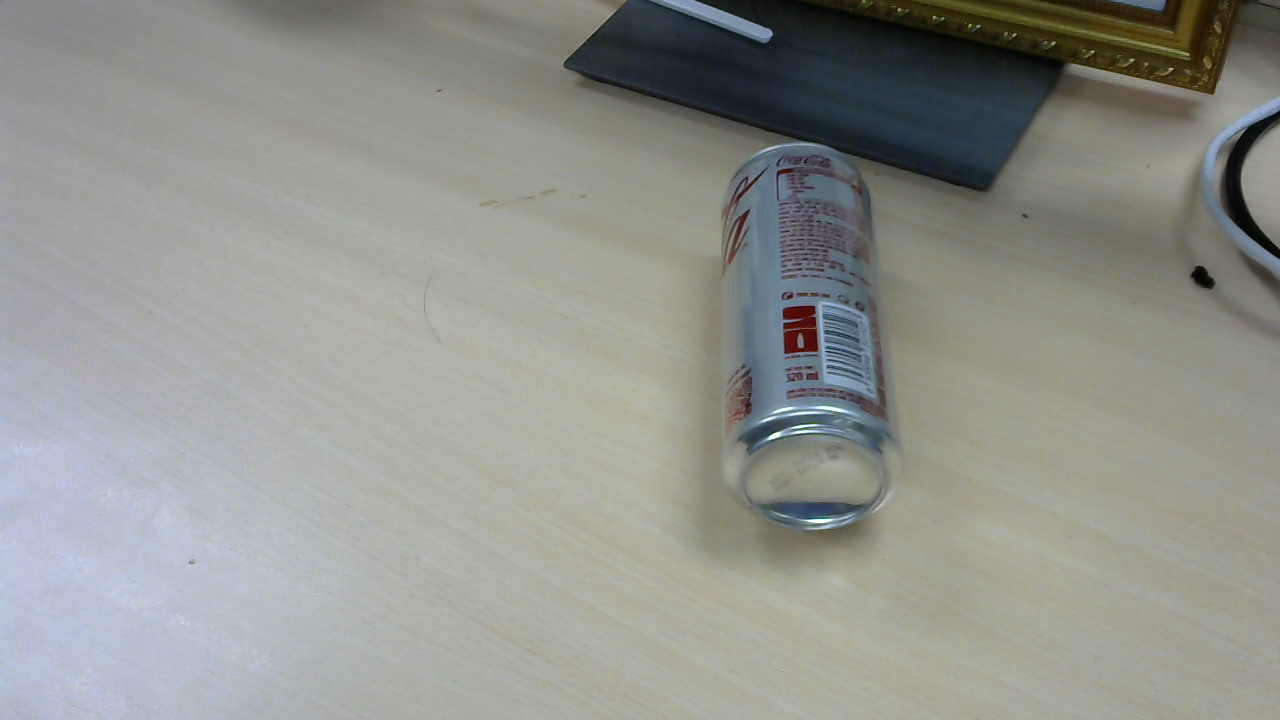Coca_Cola: (721, 147, 911, 536)
